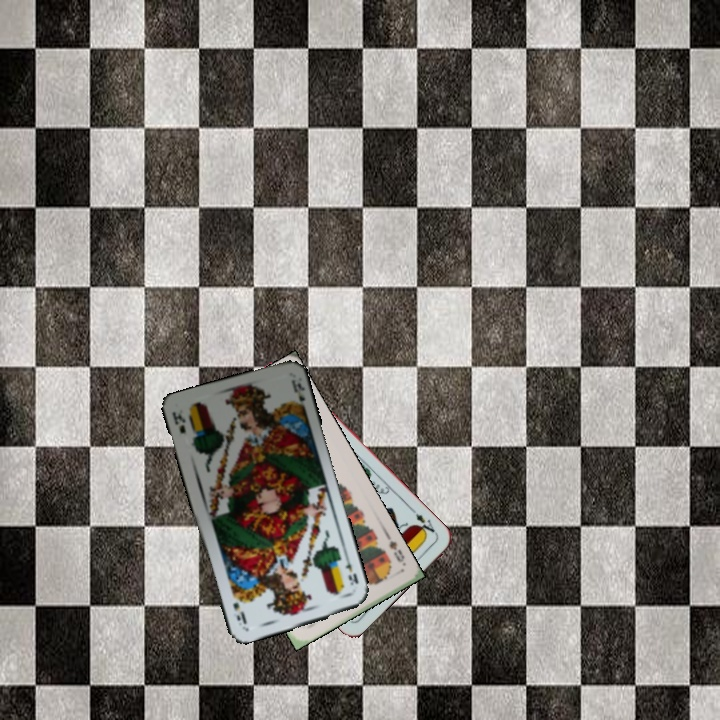EA: (411, 509, 440, 539)
EK: (341, 554, 361, 588), (168, 407, 188, 436)
S8: (385, 537, 407, 565)
